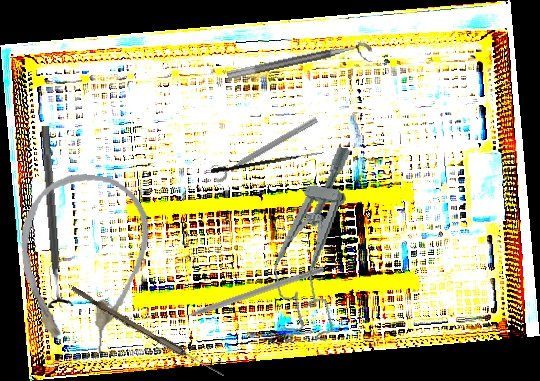Cannula: (7, 167, 156, 359)
Chopper: (165, 257, 325, 326)
Fixation Ring: (207, 107, 321, 185), (30, 124, 76, 309), (226, 39, 375, 93)
Hook Surgical: (210, 147, 325, 175)
Speculum: (262, 139, 366, 343)
Surgical Spoon: (68, 286, 227, 379)
